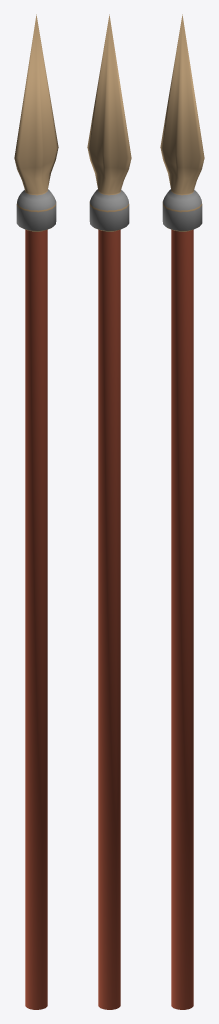
The model's file is Spear.fbx.
The picture shows the model from 3 angles, left to right: view 1: azimuth 30°, elevation 25°; view 2: azimuth 150°, elevation 25°; view 3: azimuth 330°, elevation 25°; orthographic projection.
Parts seen in each view (by area): view 1: Cylinder; view 2: Cylinder; view 3: Cylinder.
Part boxes in pixels (x1,y1,x2,y2): Cylinder: (14, 14, 58, 1009); Cylinder: (87, 14, 131, 1009); Cylinder: (160, 14, 204, 1009).
Bounding box in the file's own units: 200 × 4288 × 156.
